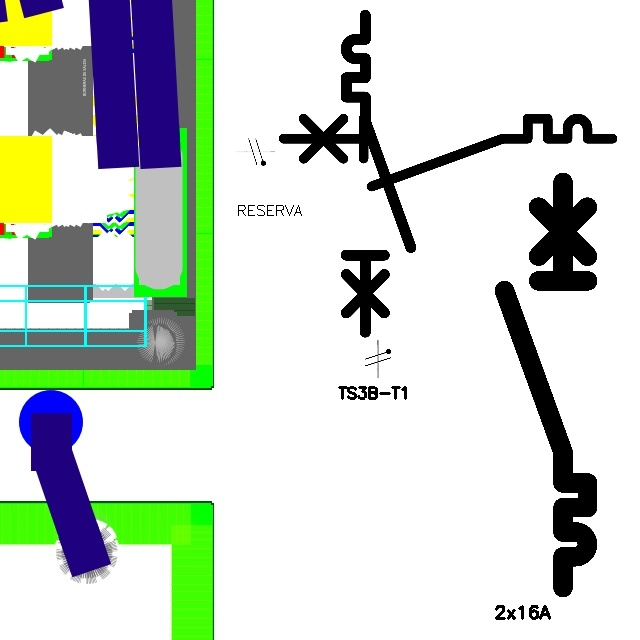interruptor_termomagnetico: (494, 172, 598, 598), (275, 110, 621, 194), (338, 7, 419, 340)
